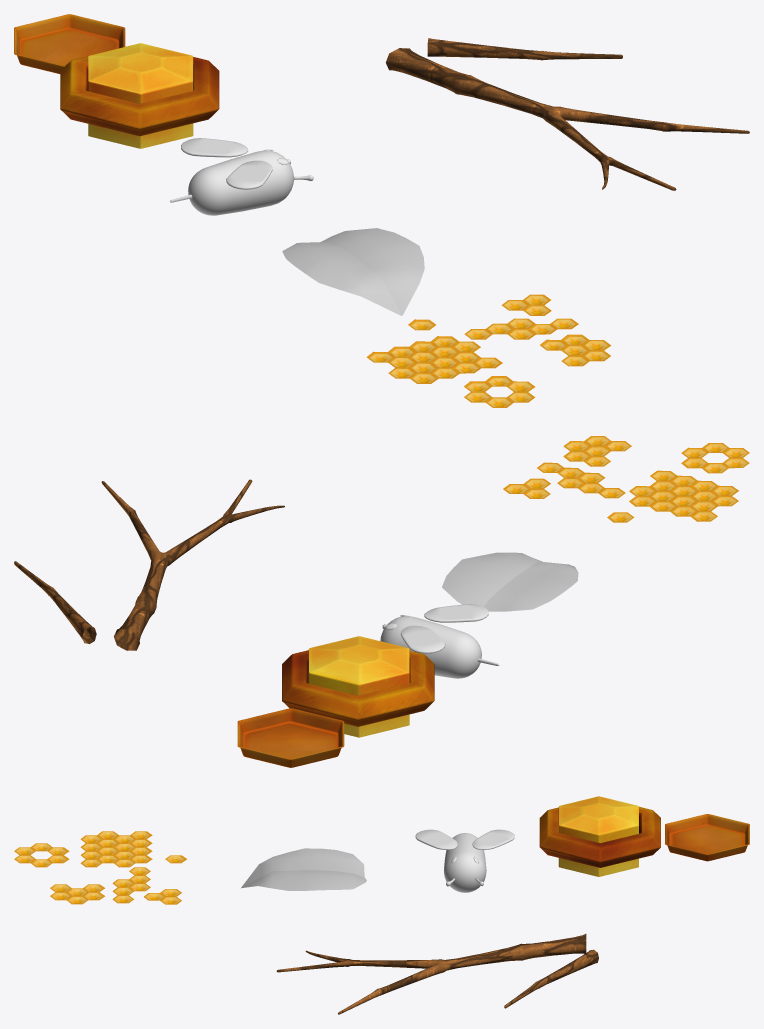
The model's file is BeeGameAssets.FBX.
The picture shows the model from 3 angles, top to bottom: view 1: azimuth 30°, elevation 25°; view 2: azimuth 150°, elevation 25°; view 3: azimuth 270°, elevation 25°; orthographic projection. The views are drawn at different scales.
Parts seen in each view (by area): view 1: Plane001, Leaf01, HCombRing, HCombClosed, HCombOpen, Bee, HoneyComb06, HoneyComb03, HoneyComb04, HoneyComb05, bWingLeft, bWingRight (+1 smaller); view 2: HCombRing, Leaf01, HCombClosed, Plane001, HCombOpen, HoneyComb06, Bee, HoneyComb03, HoneyComb04, HoneyComb05, bWingRight, bWingLeft (+1 smaller); view 3: Plane001, Leaf01, HCombRing, HCombClosed, HCombOpen, HoneyComb06, Bee, HoneyComb04, HoneyComb03, HoneyComb05, bWingLeft, bWingRight (+1 smaller).
Boxes of the visible parts, left/top/right/bottom form: Plane001: left=385, top=38, right=749, bottom=190; Leaf01: left=282, top=228, right=424, bottom=315; HCombRing: left=60, top=56, right=219, bottom=136; HCombClosed: left=88, top=43, right=193, bottom=148; HCombOpen: left=14, top=14, right=125, bottom=73; Bee: left=170, top=149, right=313, bottom=215; HoneyComb06: left=366, top=336, right=502, bottom=383; HoneyComb03: left=464, top=318, right=578, bottom=339; HoneyComb04: left=464, top=376, right=535, bottom=407; HoneyComb05: left=540, top=334, right=610, bottom=366; bWingLeft: left=181, top=138, right=248, bottom=157; bWingRight: left=226, top=160, right=272, bottom=189; HCombRing: left=282, top=650, right=434, bottom=726; Leaf01: left=442, top=552, right=578, bottom=611; HCombClosed: left=308, top=636, right=409, bottom=737; Plane001: left=14, top=479, right=284, bottom=650; HCombOpen: left=237, top=708, right=344, bottom=767; HoneyComb06: left=629, top=470, right=738, bottom=521; Bee: left=380, top=615, right=499, bottom=678; HoneyComb03: left=537, top=462, right=625, bottom=498; HoneyComb04: left=681, top=443, right=749, bottom=473; HoneyComb05: left=563, top=436, right=631, bottom=466; bWingRight: left=424, top=604, right=488, bottom=622; bWingLeft: left=400, top=625, right=445, bottom=653; Plane001: left=276, top=934, right=598, bottom=1014; Leaf01: left=241, top=848, right=366, bottom=890; HCombRing: left=539, top=806, right=660, bottom=867; HCombClosed: left=558, top=796, right=638, bottom=876; HCombOpen: left=665, top=814, right=749, bottom=861; HoneyComb06: left=80, top=831, right=152, bottom=867; Bee: left=443, top=833, right=486, bottom=892; HoneyComb04: left=14, top=843, right=69, bottom=867; HoneyComb03: left=112, top=867, right=150, bottom=903; HoneyComb05: left=50, top=884, right=104, bottom=904; bWingLeft: left=472, top=829, right=514, bottom=849; bWingRight: left=415, top=829, right=457, bottom=849.
Bounding box in the file's own units: 98.55 × 159 × 16.06.
